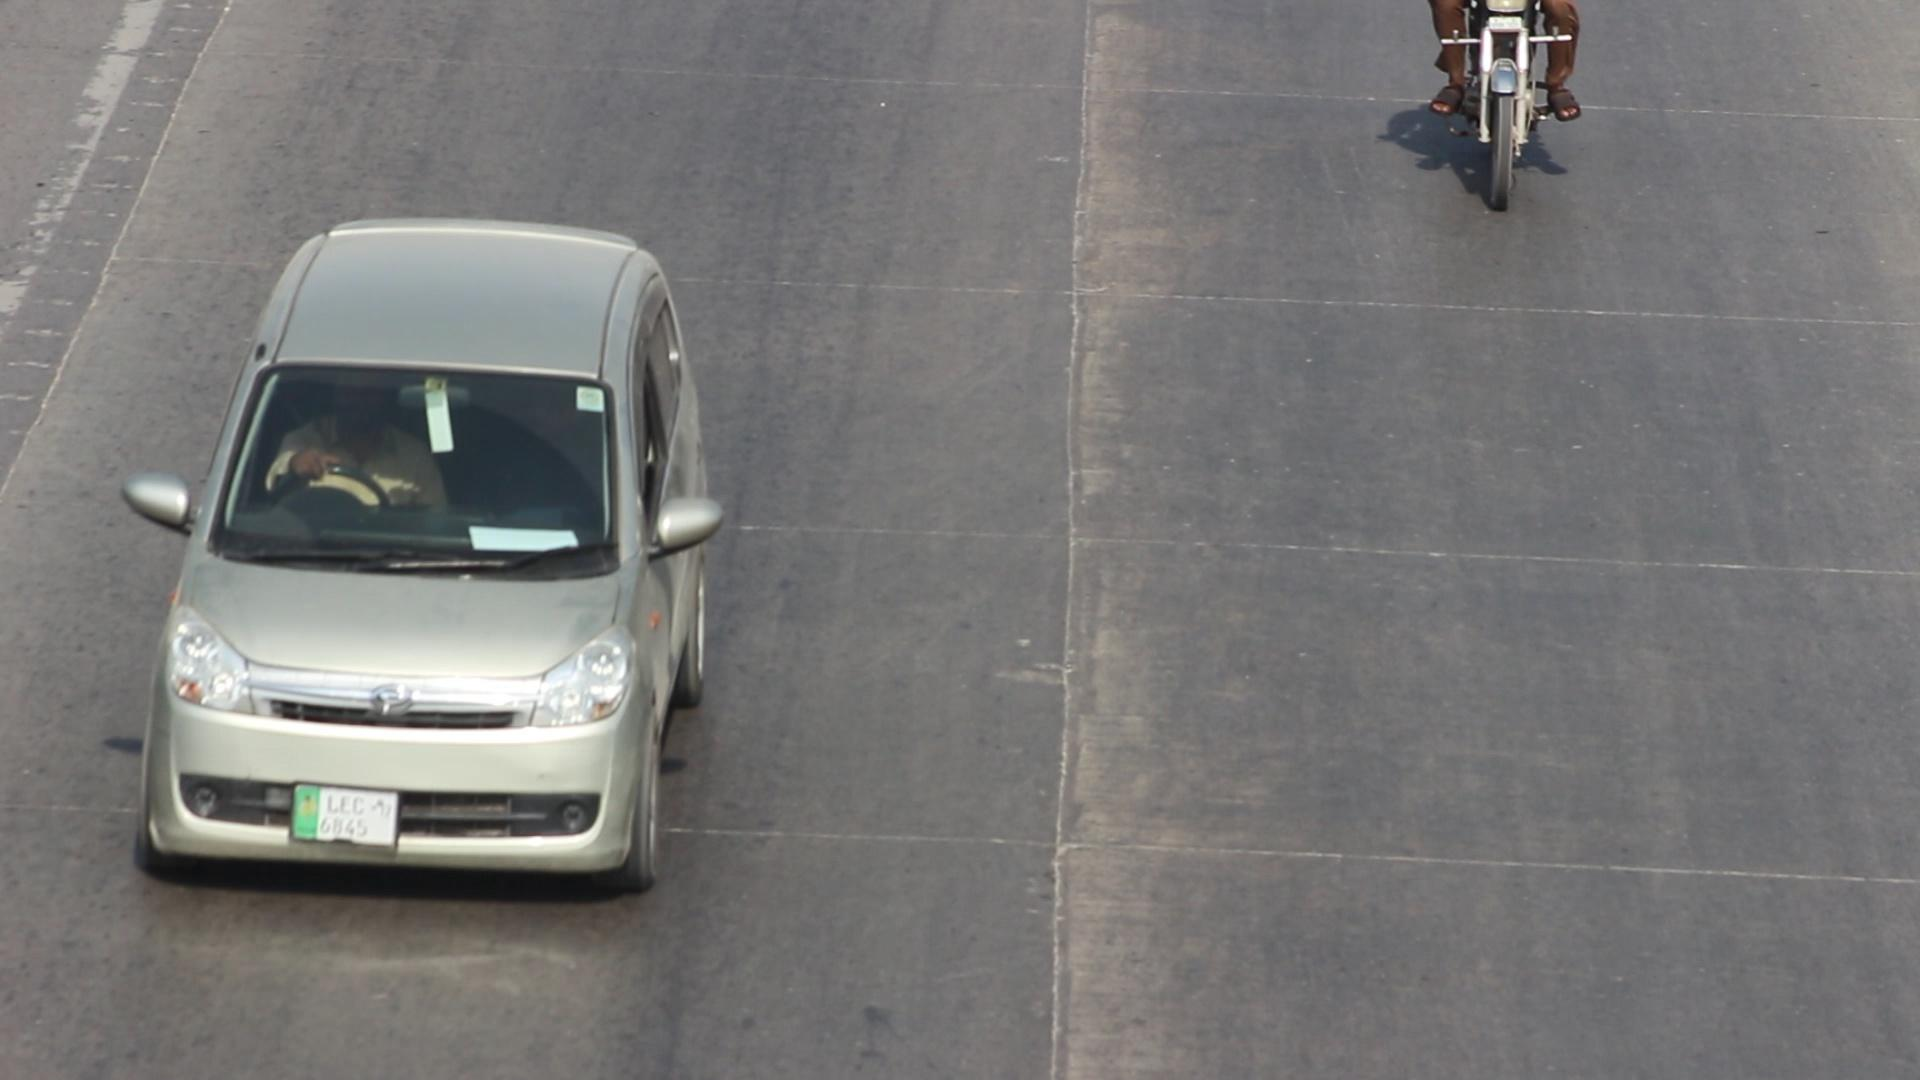windshield: (207, 340, 630, 576)
